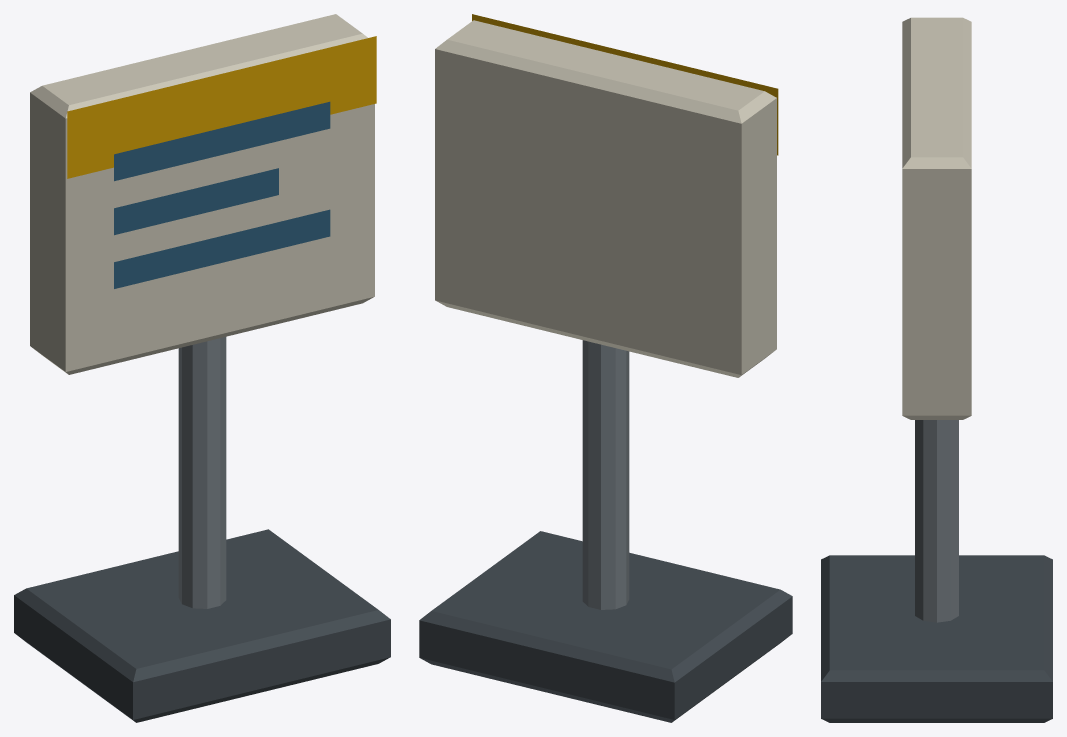
The model's file is lore_stone.fbx.
The picture shows the model from 3 angles, left to right: view 1: azimuth 30°, elevation 25°; view 2: azimuth 150°, elevation 25°; view 3: azimuth 270°, elevation 25°; orthographic projection. The views are drawn at different scales.
Parts seen in each view (by area): view 1: lore_stone; view 2: lore_stone; view 3: lore_stone.
Boxes of the visible parts, x1,y1,x2,y2 form: lore_stone: (14,14,390,722); lore_stone: (419,14,792,722); lore_stone: (821,17,1052,722).
Bounding box in the file's own units: 1.2 × 2.2 × 0.8.
